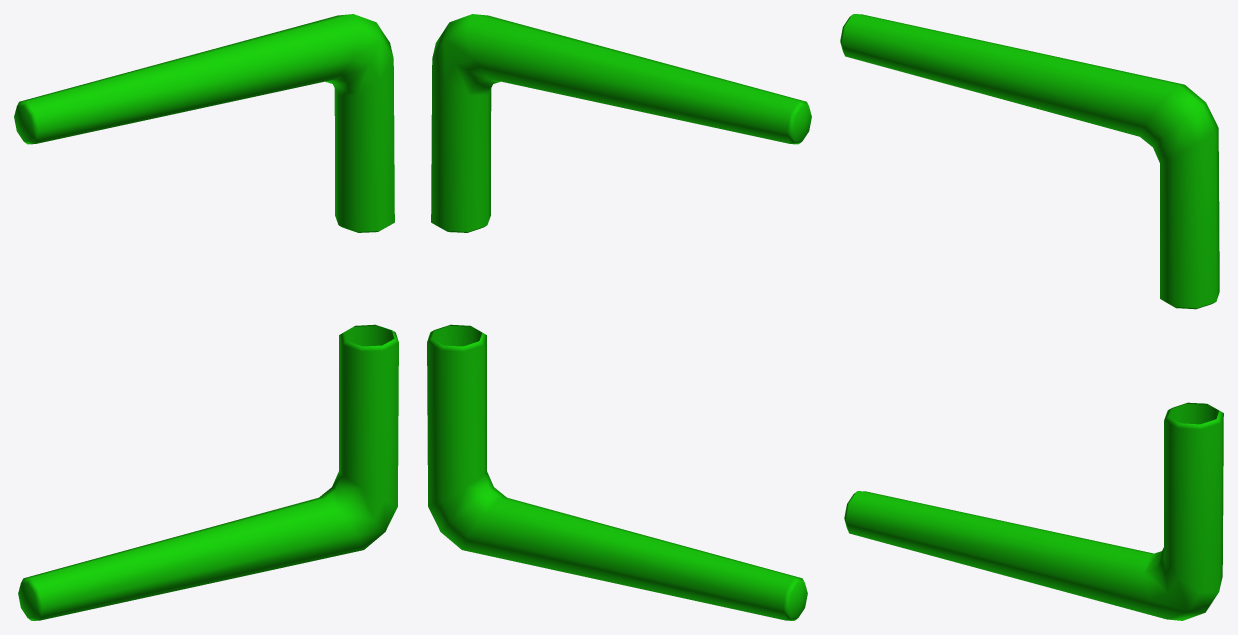
File: SM_Door_01_Lock_01.fbx
3 views of the same model, side by side, from view 1: azimuth 30°, elevation 25°; view 2: azimuth 150°, elevation 25°; view 3: azimuth 330°, elevation 25° (orthographic).
Visible parts, largest first — view 1: SM_Door_01_Lock_01; view 2: SM_Door_01_Lock_01; view 3: SM_Door_01_Lock_01.
Boxes of the visible parts, x1,y1,x2,y2 form: SM_Door_01_Lock_01: (14, 14, 398, 620); SM_Door_01_Lock_01: (427, 14, 811, 620); SM_Door_01_Lock_01: (840, 14, 1223, 620).
Bounding box in the file's own units: 21.44 × 29.32 × 3.14.
